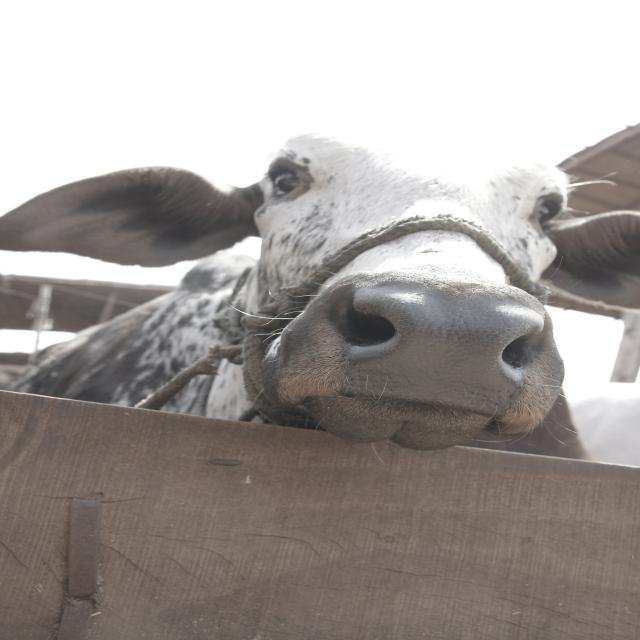muzzles: (325, 275, 563, 419)
